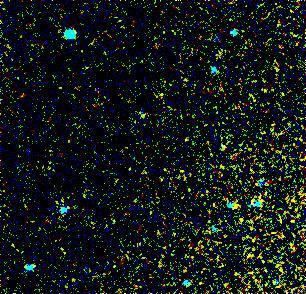star: (226, 207, 256, 237)
